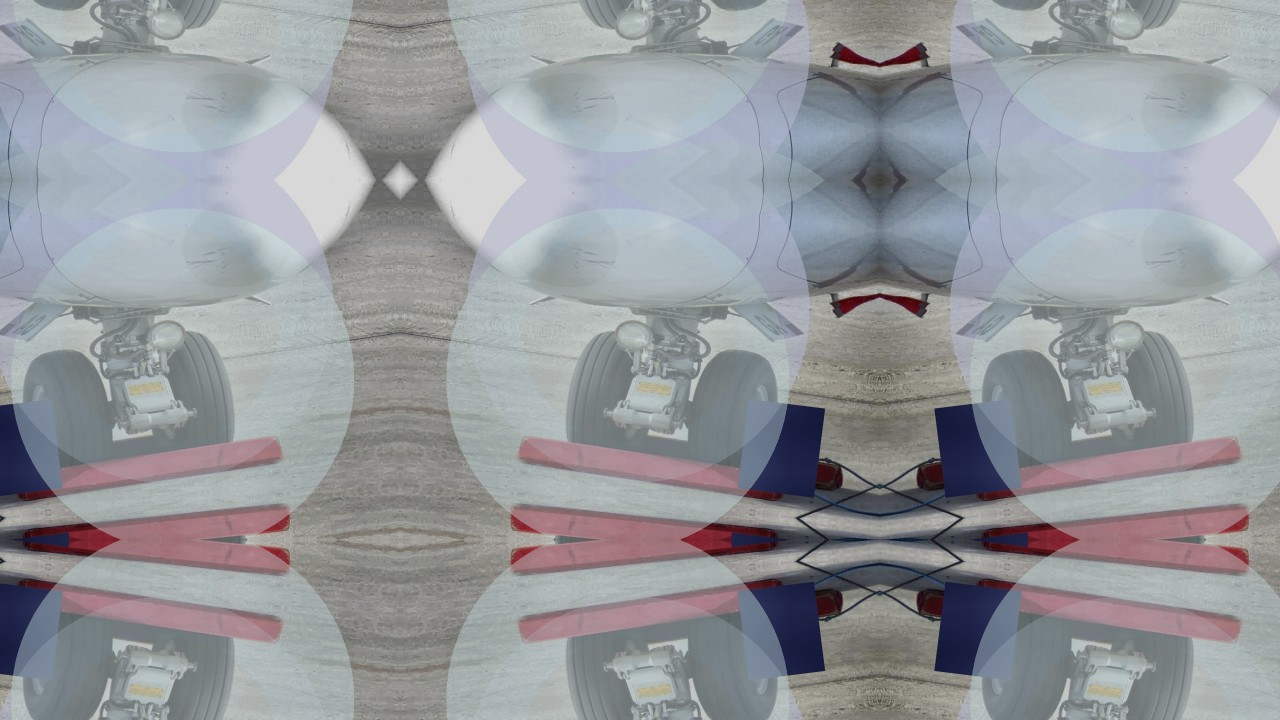chock: (10, 431, 287, 502), (513, 431, 790, 502), (970, 431, 1247, 502), (10, 578, 287, 649), (513, 578, 790, 649), (970, 578, 1247, 649), (620, 428, 847, 492), (913, 428, 1140, 492), (620, 588, 847, 652), (913, 588, 1140, 652), (18, 497, 295, 540), (505, 497, 782, 540), (978, 497, 1255, 540), (18, 540, 295, 583), (505, 540, 782, 583), (978, 540, 1255, 583), (0, 428, 180, 492), (0, 588, 180, 652)
wheel: (16, 344, 117, 473), (683, 344, 784, 473), (976, 344, 1077, 473), (144, 324, 238, 452), (562, 324, 656, 452), (1104, 324, 1198, 452), (16, 607, 117, 720), (683, 607, 784, 720), (976, 607, 1077, 720), (144, 628, 238, 720), (562, 628, 656, 720), (1104, 628, 1198, 720), (144, 0, 238, 36), (562, 0, 656, 36), (1104, 0, 1198, 36), (16, 0, 117, 16), (683, 0, 784, 16), (976, 0, 1077, 16)
